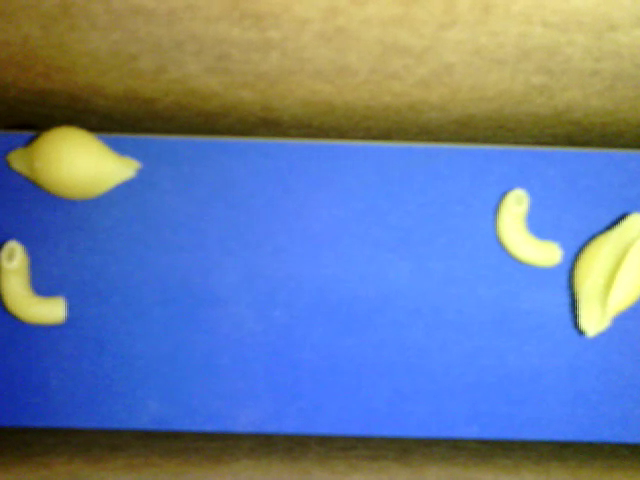elbow: (1, 238, 69, 325), (495, 186, 563, 266)
shell: (7, 126, 140, 202), (573, 212, 639, 339)
